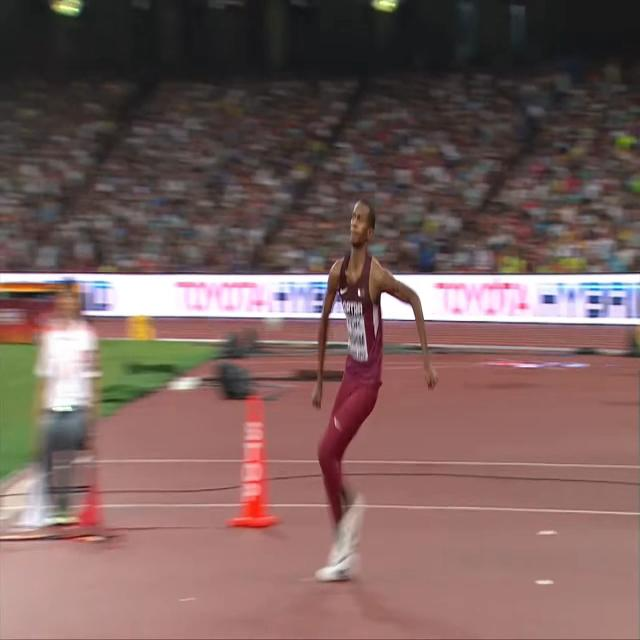run: (311, 197, 439, 583)
